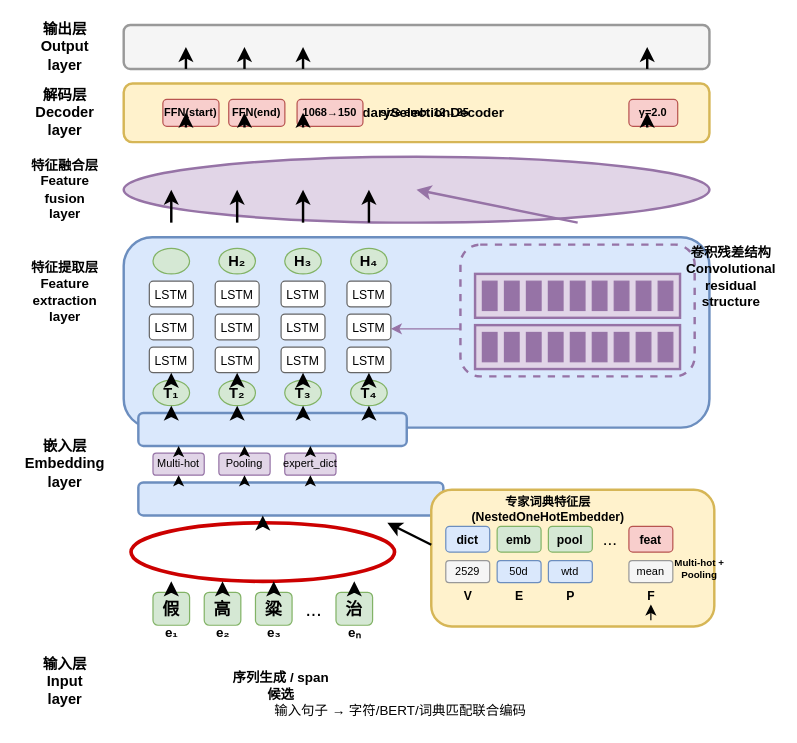
The diagram is 797 pixels wide and 743 high, and some of its shapes have lost their labels. Here are the shapes that lost their labels. From the top down, the centre of each, then its label:
pixel 416 46: B-NAM I-NAM I-NAM O ... O B-CON I-CON I-CON I-CON O O O O O O O
pixel 416 189: 多头自注意力机制 Multi-head self-attention
pixel 171 260: H₁
pixel 272 429: BiLSTM编码层
pixel 290 498: 特征融合 H_fused = [BERT; OneHot; Dict]
pixel 262 551: MacBERT编码层 (Whole Word Masking)
